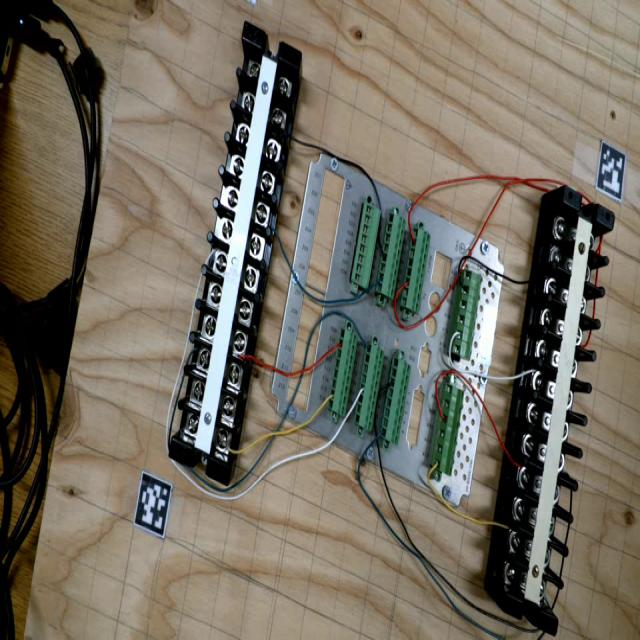Flathead_Block: (498, 186, 622, 637)
Phillips_Block: (165, 21, 307, 485)
Terminal_1: (430, 382, 466, 477), (450, 269, 482, 361)
Terminal_2: (378, 355, 412, 447), (353, 341, 386, 433), (326, 327, 359, 418), (374, 212, 408, 300), (399, 227, 432, 314)
